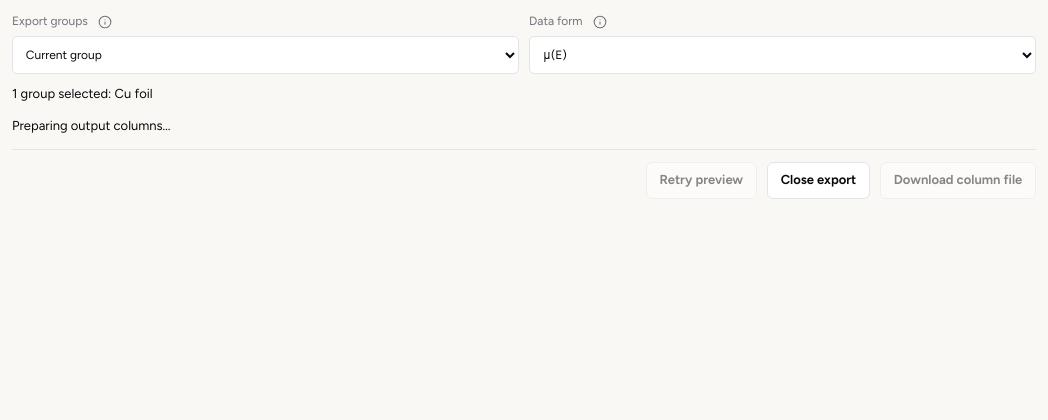
Test case: ignores late previews and rejects malformed output data
The image size is (1048, 420).
Select "Normalized μ(E)" in the dropdown labelled "Data form" at (782, 55), box top-left (529, 36), bottom-right (1036, 74)
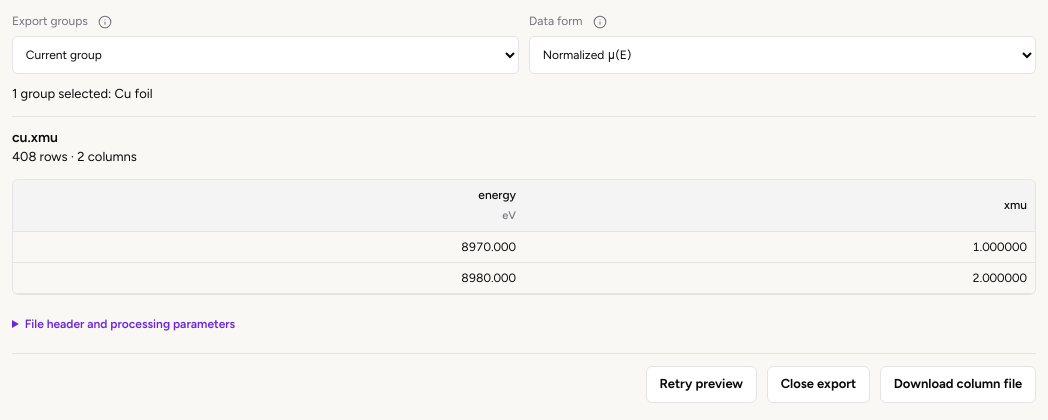
Now the text "408 rows · 2 columns" is shown, box top-left (12, 149), bottom-right (137, 164)
Now the message "Preparing output columns…" is gone
Click the button "Retry preview" at (701, 384), box top-left (646, 366), bottom-right (757, 403)
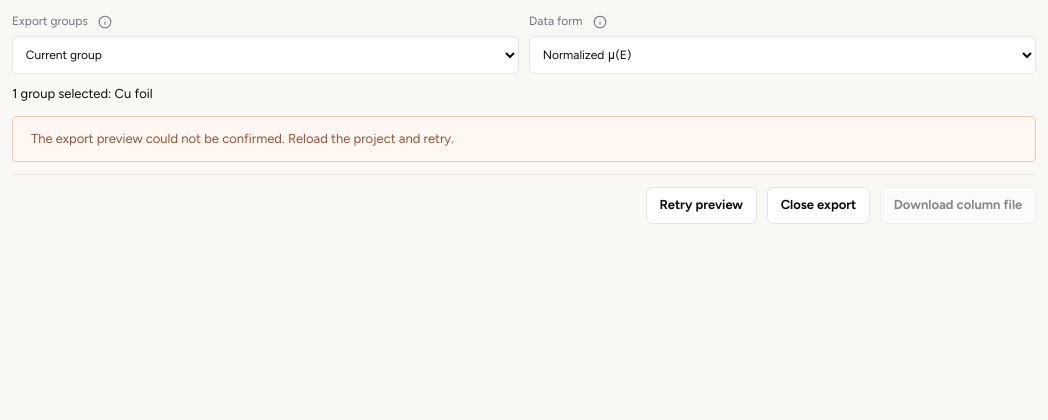
Now the message shows "could not be confirmed", box top-left (31, 131), bottom-right (454, 146)
Now the button "Download column file" is disabled, box top-left (880, 187), bottom-right (1036, 224)
